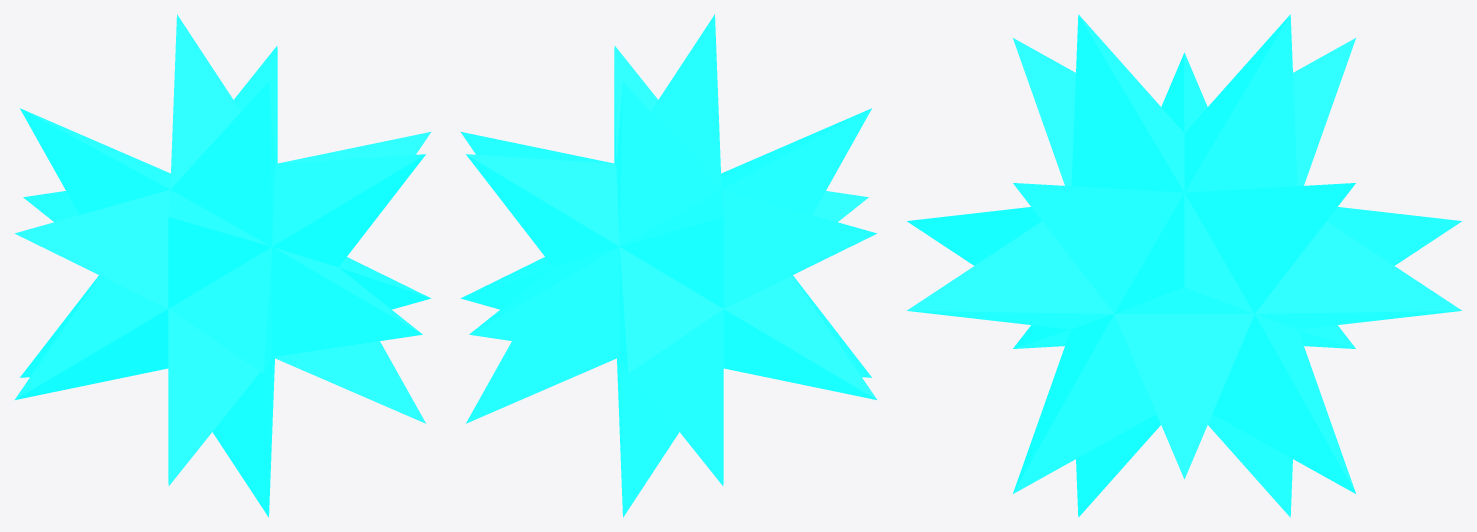
File: bit-star.glb
3 views of the same model, side by side, from view 1: azimuth 30°, elevation 25°; view 2: azimuth 150°, elevation 25°; view 3: azimuth 270°, elevation 25° (orthographic). The views are drawn at different scales.
Size of the model in its own units: 3.83 by 3.83 by 3.83.
